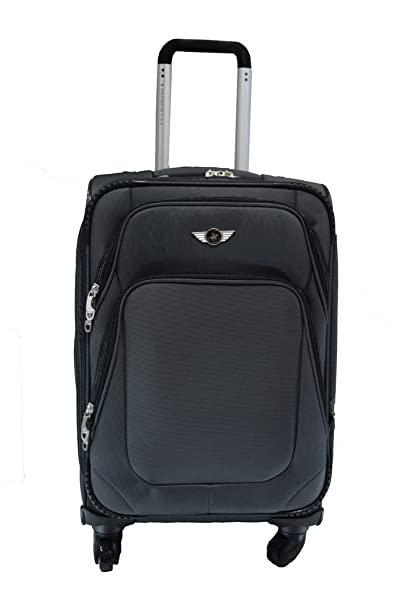suitcase: (64, 159, 344, 542)
